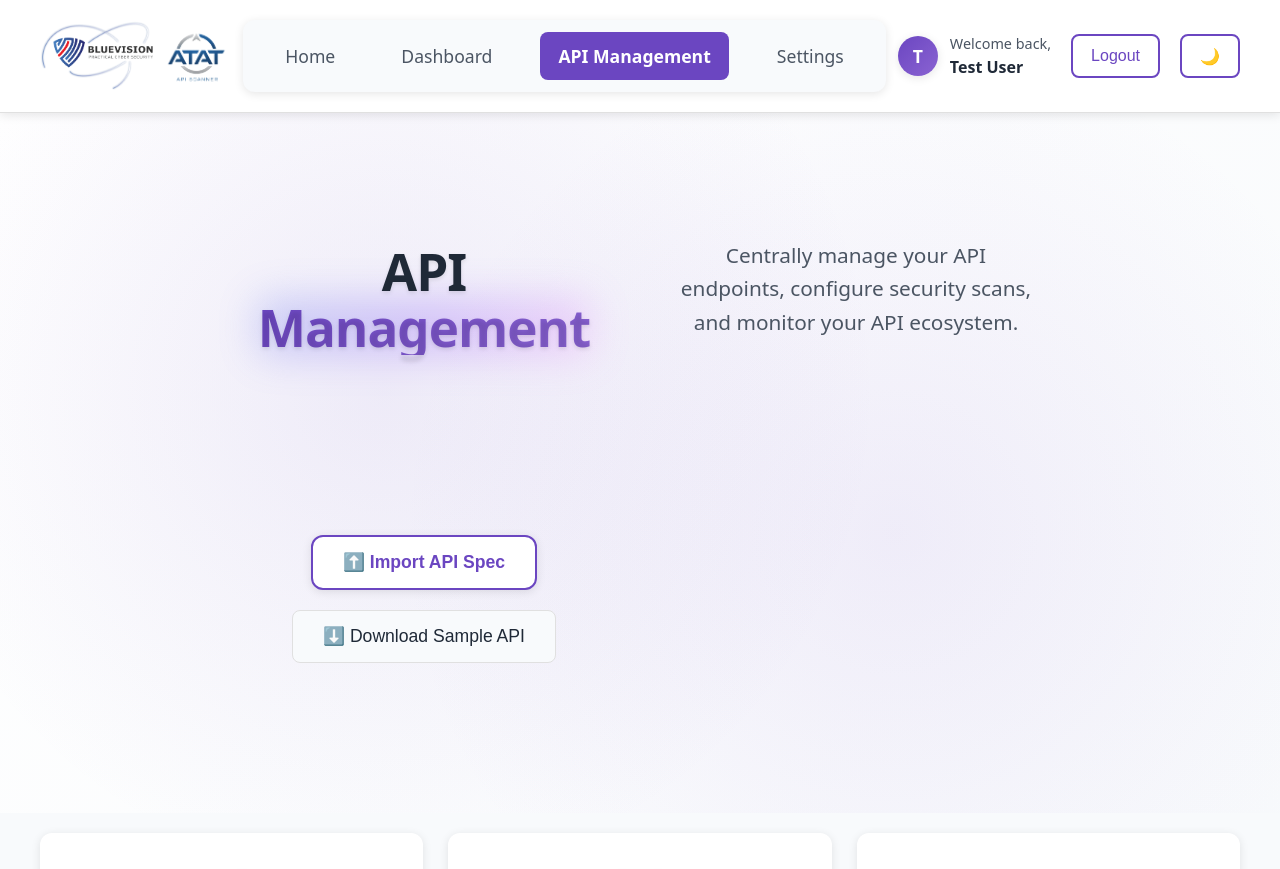
Scenario: ManageAPIs Component - Working Additional Tests › shows import modal when import button clicked
Click the button "⬆️ Import API Spec".
click(424, 563)  # box [311, 535, 537, 590]
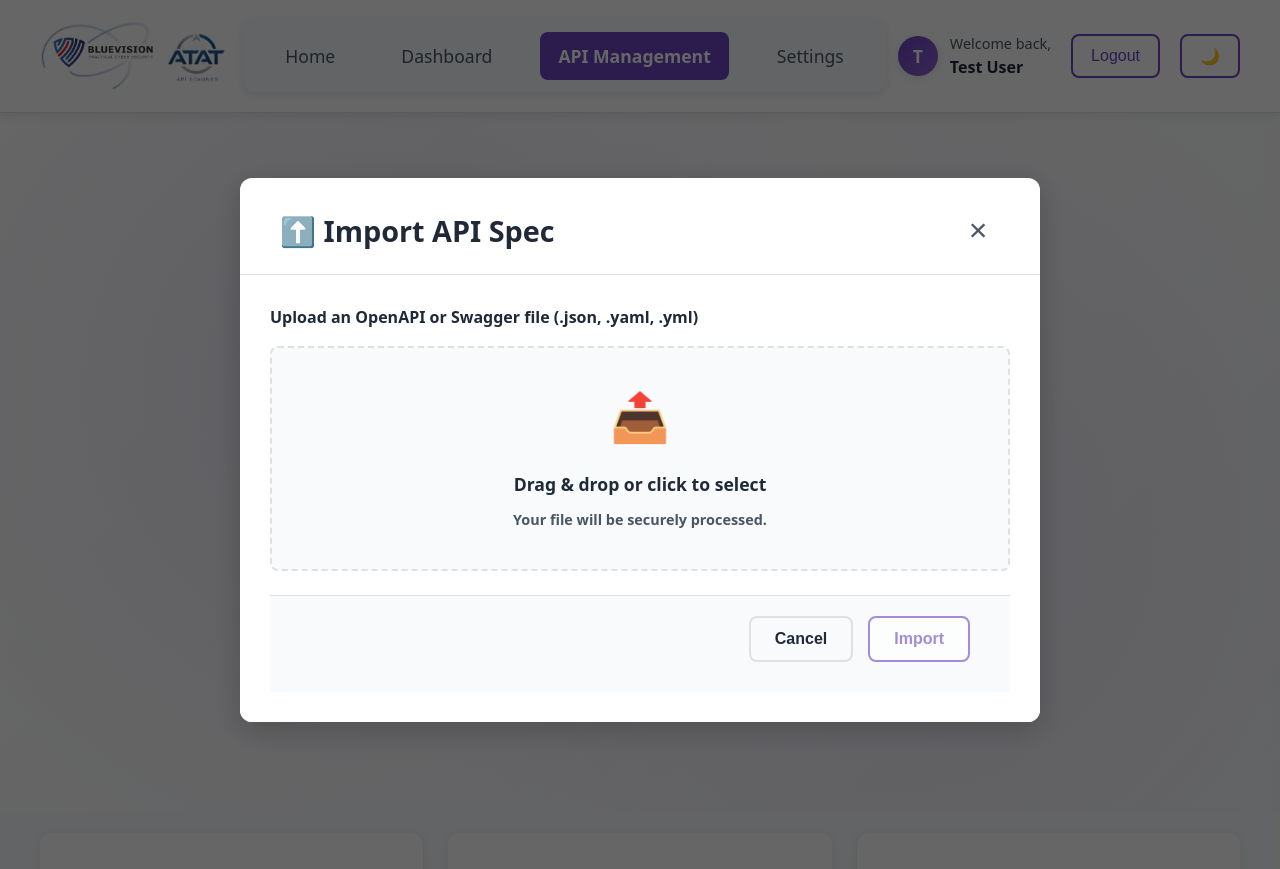
Check: the text "Upload an OpenAPI or Swagger file (.json, .yaml, .yml)" is shown, box [270, 306, 698, 328]
